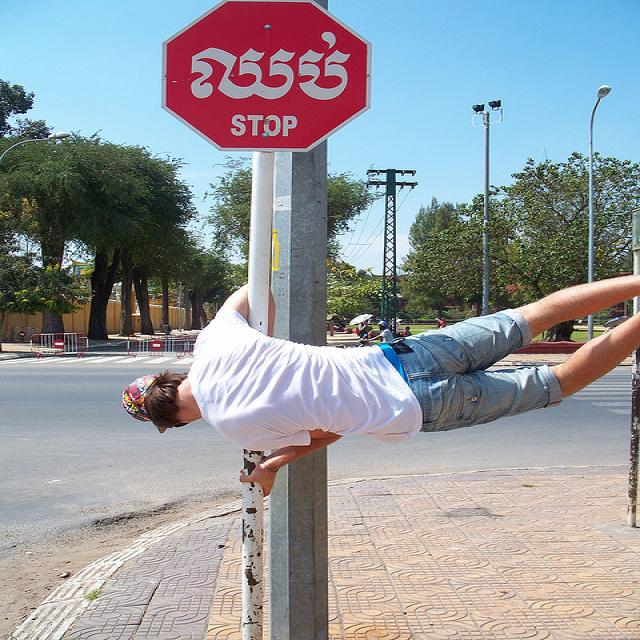motor: (353, 334, 403, 348)
